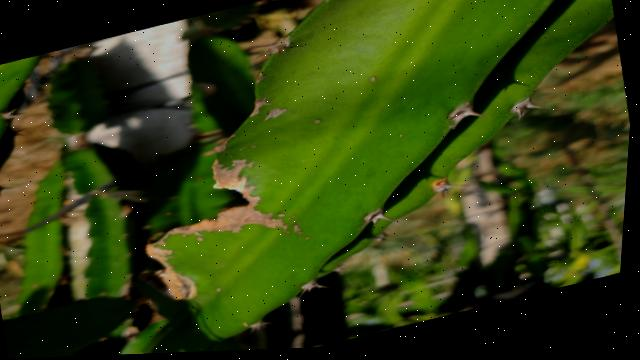stemcanker: (150, 1, 517, 341)
